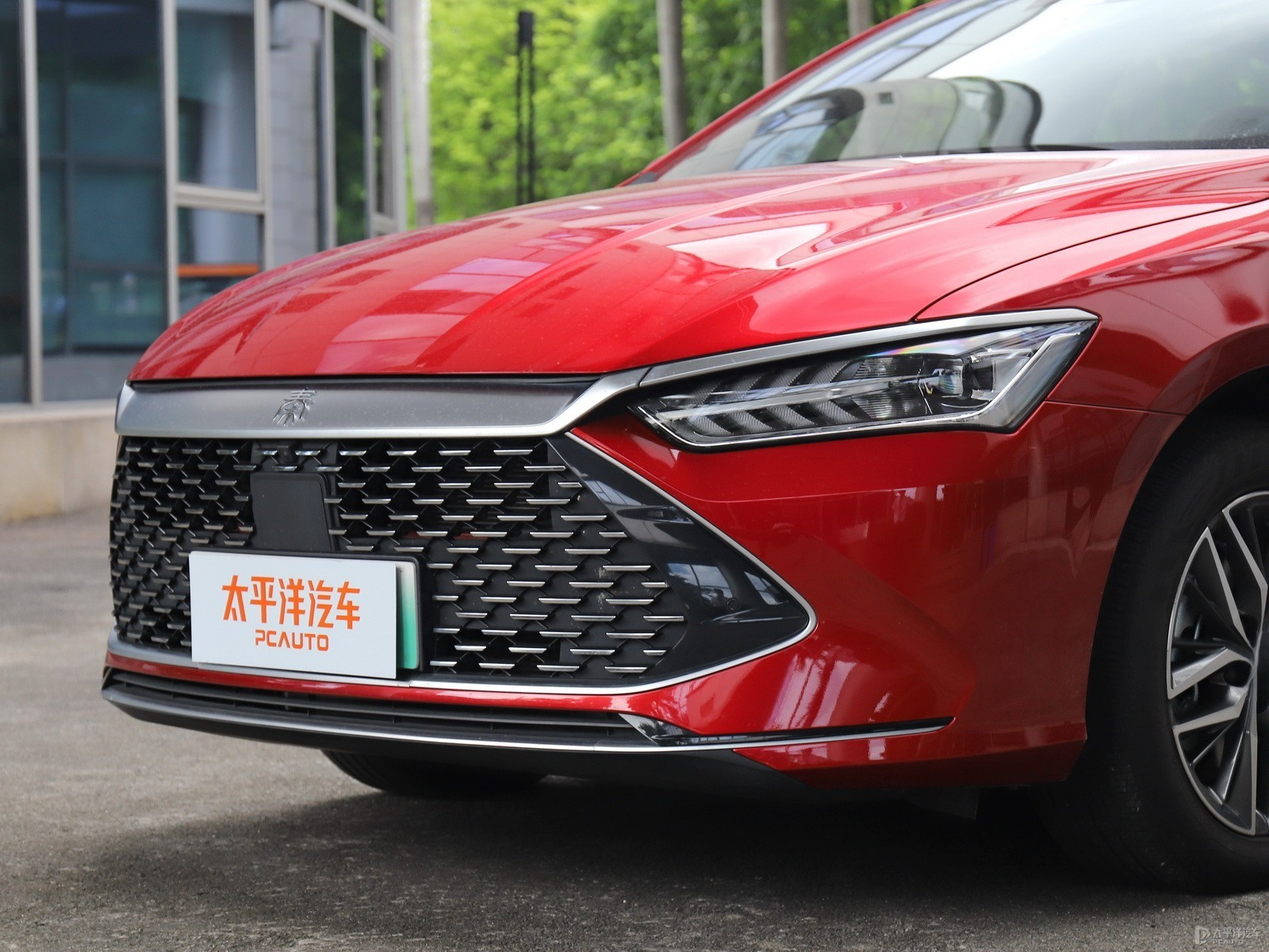BYD Qin: (272, 389, 315, 425)
